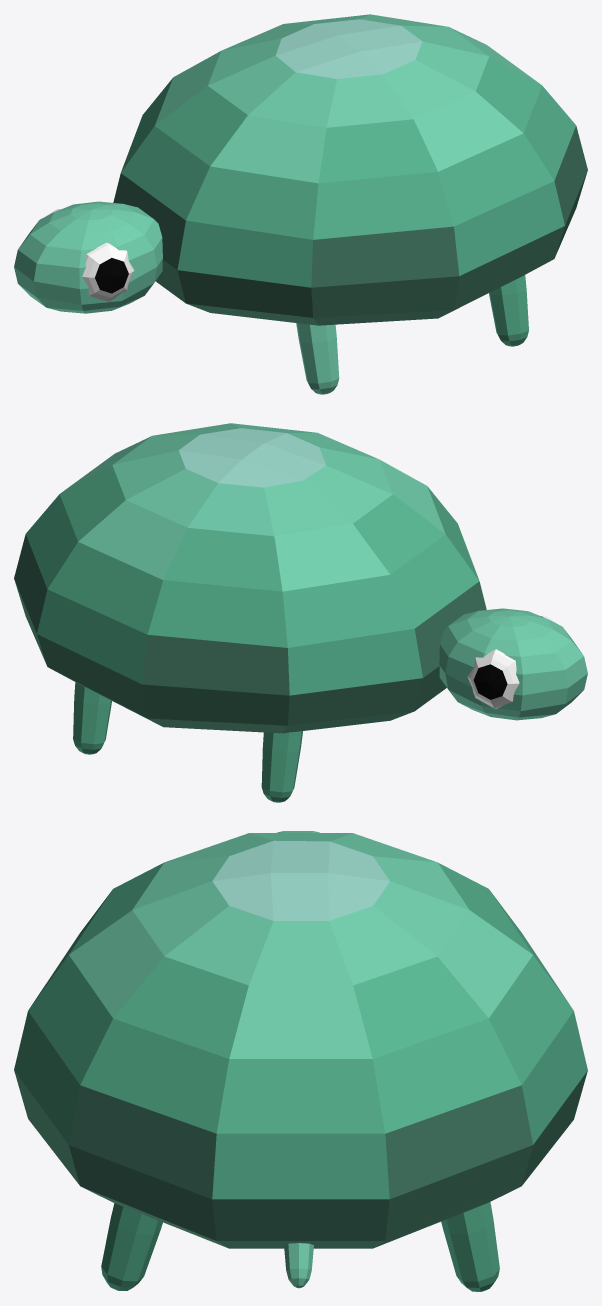
Rendered from Turtle.fbx.
3 views of the same model, one above another, from view 1: azimuth 30°, elevation 25°; view 2: azimuth 150°, elevation 25°; view 3: azimuth 270°, elevation 25° (orthographic). The views are drawn at different scales.
Parts seen in each view (by area): view 1: Turtle; view 2: Turtle; view 3: Turtle.
Part boxes in pixels (x1,y1,x2,y2): Turtle: (14, 14, 587, 394); Turtle: (14, 423, 587, 802); Turtle: (14, 831, 587, 1291).
Bounding box in the file's own units: 0.6559 × 0.3269 × 0.4744.
